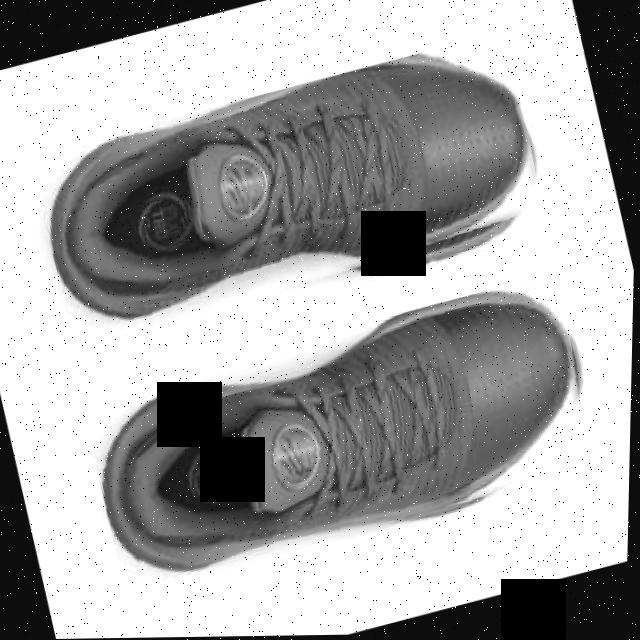shoe: (79, 272, 611, 597), (26, 31, 556, 357)
